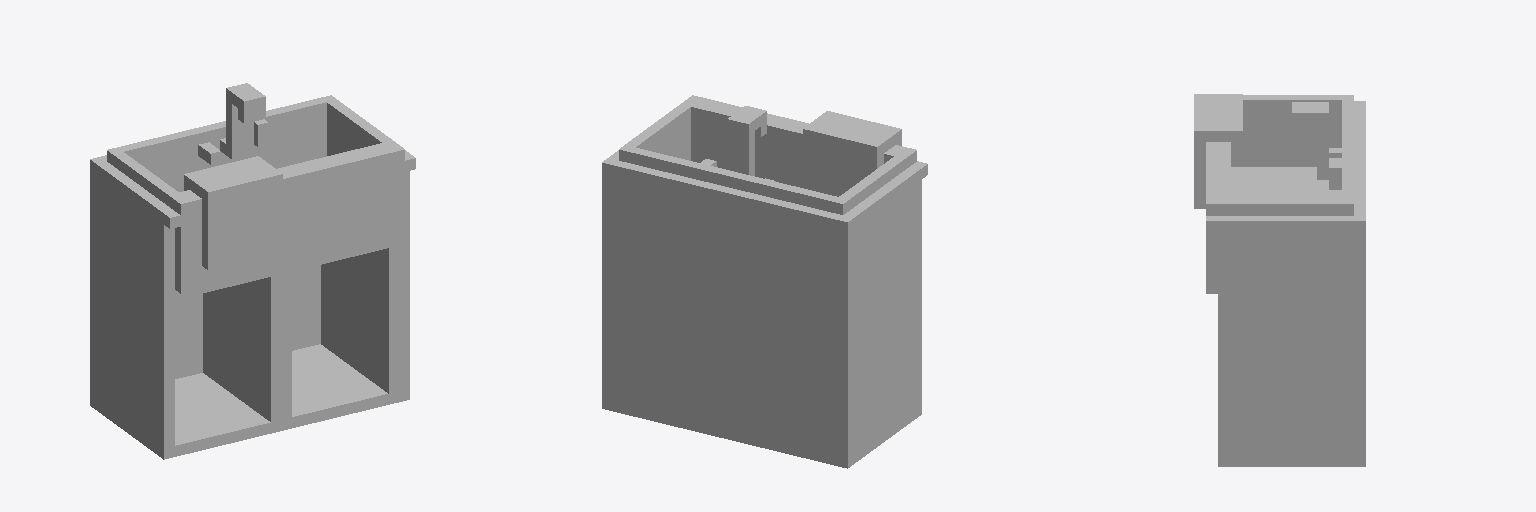
Rendered from kitchen_drawers_base2.obj.
3 renders of one model, left to right at view 1: azimuth 30°, elevation 25°; view 2: azimuth 150°, elevation 25°; view 3: azimuth 270°, elevation 25°, orthographic.
Visible parts, largest first — view 1: object 1; view 2: object 1; view 3: object 1.
Boxes of the visible parts, x1=… form: object 1: x1=90, y1=83, x2=415, y2=459; object 1: x1=602, y1=95, x2=927, y2=468; object 1: x1=1194, y1=94, x2=1365, y2=466.
Bounding box in the file's own units: 2.3 × 2.7 × 1.4.